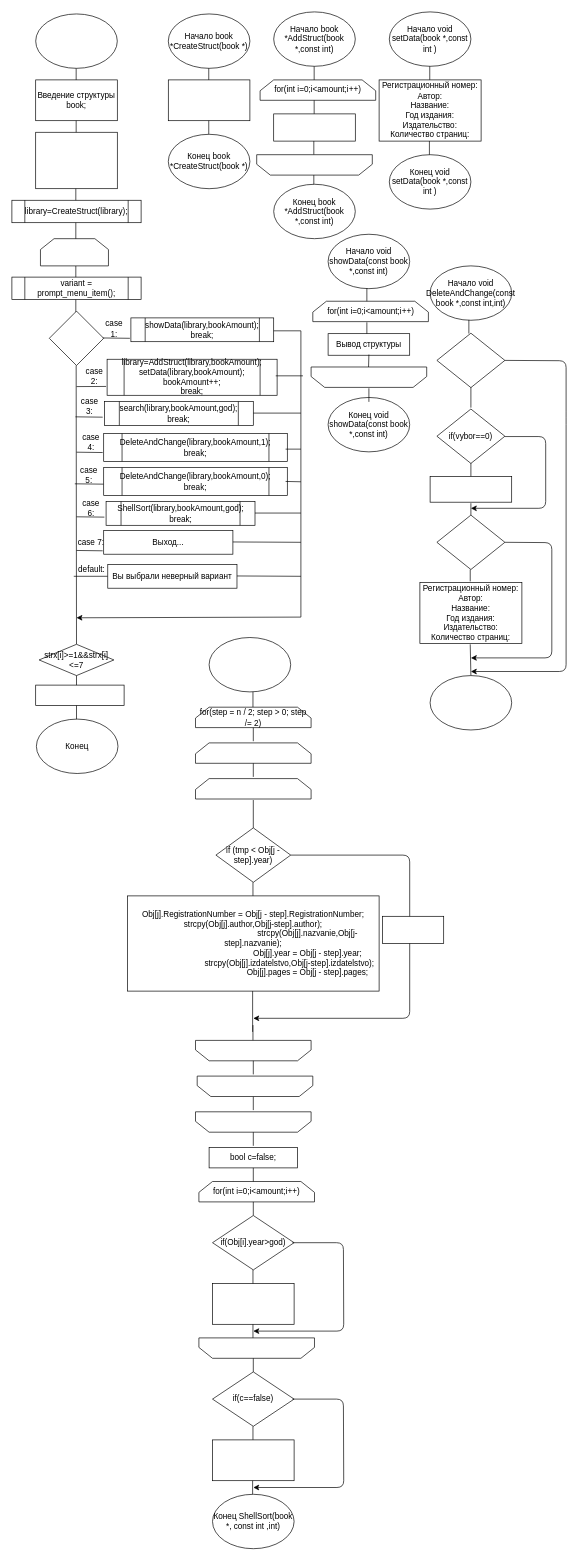
The diagram is 583 pixels wide and 1561 high, and some of its shapes have lost their labels. The shapes that lost their labels are listed below. From the top down, each one's centre as x and y in pixels, then its label:
At pixel 76 40: "Начало".
At pixel 209 100: "Obj=new book[1];".
At pixel 314 127: "tempObj[i]=Obj[i];".
At pixel 76 160: "book *library=0; int bookAmount=0; int YesOrNot=1; int god; int variant;".
At pixel 76 338: "switch(strx[i])".
At pixel 470 360: "if(Obj[i].year==rr".
At pixel 470 489: "Заполнение полей нулями и пробелами".
At pixel 470 542: "if(vybor==1)".
At pixel 249 664: "Начало ShellSort(book *, const int ,int)".
At pixel 79 695: "Удаление динамической памяти".
At pixel 470 702: "Конец void DeleteAndChange(const book *,const int,int)".
At pixel 253 752: "for(i = step; i < n; i++)".
At pixel 253 788: "for(j = i; j >= step; j -= step)".
At pixel 413 930: "break;".
At pixel 253 1303: "Вывод структуры; c=false;".
At pixel 253 1460: "Структура не найдена;".
